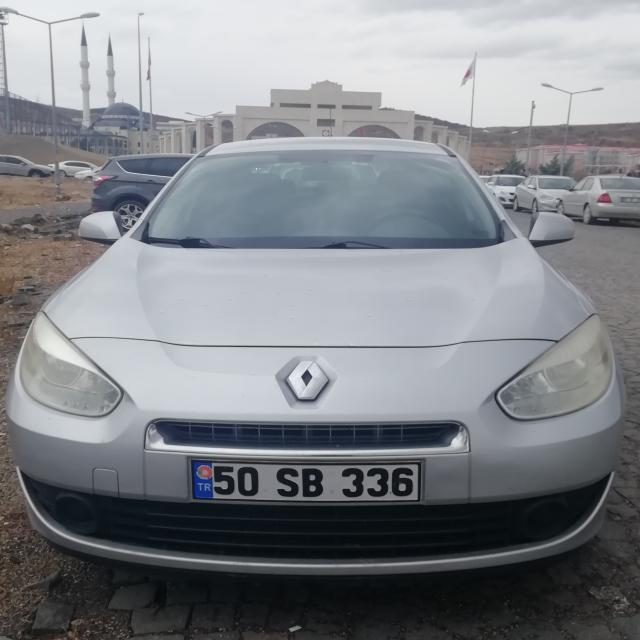license_plate: (193, 462, 423, 506)
